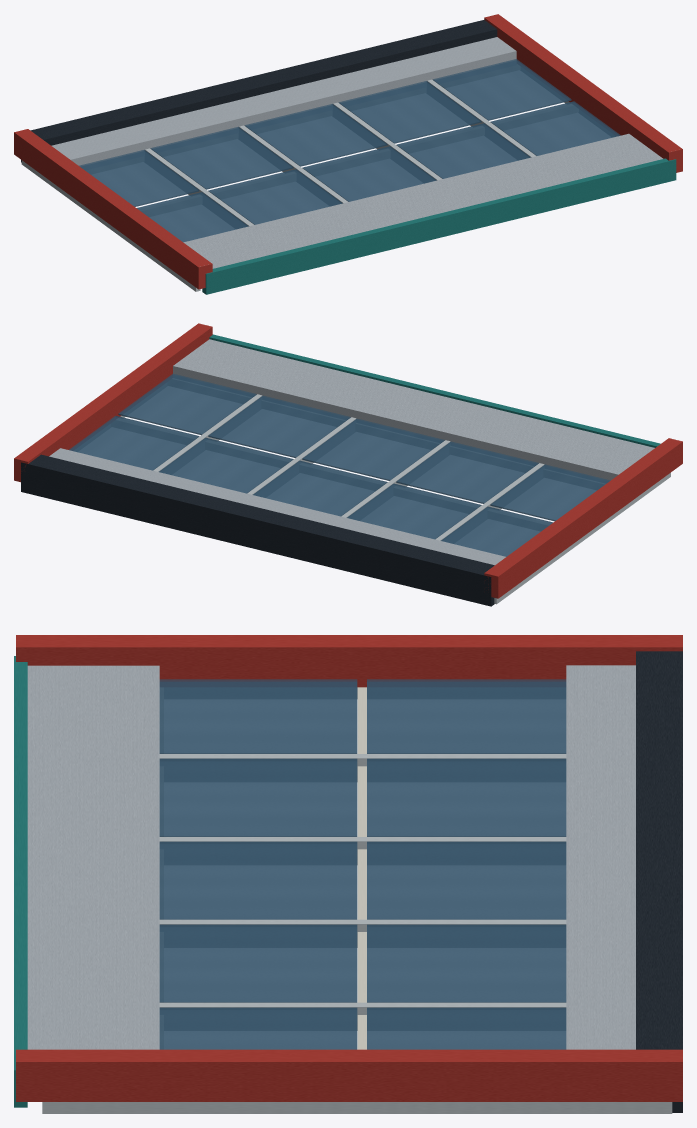
File: MOD_01_CurtainWall_10m.glb
The picture shows the model from 3 angles, top to bottom: view 1: azimuth 30°, elevation 25°; view 2: azimuth 150°, elevation 25°; view 3: azimuth 270°, elevation 25°; orthographic projection. The views are drawn at different scales.
Visible parts, largest first — view 1: REN_Curtain_InsulatedGlazing, REN_Curtain_UpperSpandrel, REN_Curtain_Spandrel, REN_Curtain_EndColumns, REN_Curtain_Coping, REN_Curtain_Foundation, REN_Curtain_PrimaryVerticalMullions; view 2: REN_Curtain_InsulatedGlazing, REN_Curtain_UpperSpandrel, REN_Curtain_Foundation, REN_Curtain_EndColumns, REN_Curtain_Spandrel, REN_Curtain_PrimaryVerticalMullions, REN_Curtain_Coping; view 3: REN_Curtain_InsulatedGlazing, REN_Curtain_EndColumns, REN_Curtain_UpperSpandrel, REN_Curtain_Spandrel, REN_Curtain_Foundation, REN_Curtain_PrimaryVerticalMullions, REN_Curtain_Coping, REN_Curtain_HorizontalTransoms.
Boxes of the visible parts, x1,y1,x2,y2 form: REN_Curtain_InsulatedGlazing: [79, 59, 620, 242]; REN_Curtain_UpperSpandrel: [183, 133, 663, 268]; REN_Curtain_Spandrel: [51, 37, 516, 166]; REN_Curtain_EndColumns: [14, 14, 682, 289]; REN_Curtain_Coping: [202, 158, 676, 294]; REN_Curtain_Foundation: [21, 20, 497, 162]; REN_Curtain_PrimaryVerticalMullions: [21, 79, 569, 291]; REN_Curtain_InsulatedGlazing: [69, 373, 610, 556]; REN_Curtain_UpperSpandrel: [173, 339, 654, 481]; REN_Curtain_Foundation: [21, 454, 494, 606]; REN_Curtain_EndColumns: [14, 323, 682, 598]; REN_Curtain_Spandrel: [49, 448, 505, 565]; REN_Curtain_PrimaryVerticalMullions: [120, 394, 670, 604]; REN_Curtain_Coping: [209, 334, 660, 447]; REN_Curtain_InsulatedGlazing: [159, 679, 566, 1049]; REN_Curtain_EndColumns: [16, 635, 682, 1101]; REN_Curtain_UpperSpandrel: [27, 665, 159, 1049]; REN_Curtain_Spandrel: [566, 665, 635, 1049]; REN_Curtain_Foundation: [636, 651, 682, 1112]; REN_Curtain_PrimaryVerticalMullions: [42, 687, 672, 1113]; REN_Curtain_Coping: [14, 656, 27, 1107]; REN_Curtain_HorizontalTransoms: [357, 687, 366, 1049].
Size of the model in its own units: 10.3 by 0.645 by 6.82.
Materials: 2 (2 with a texture image).
